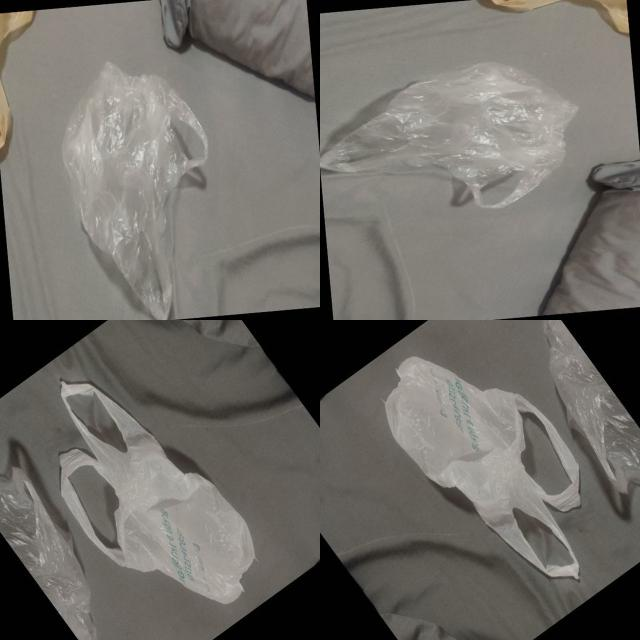Single-layer Plastic: (60, 381, 255, 604), (385, 356, 580, 578), (320, 62, 578, 209), (62, 62, 208, 319), (544, 320, 640, 494), (0, 468, 96, 640)
